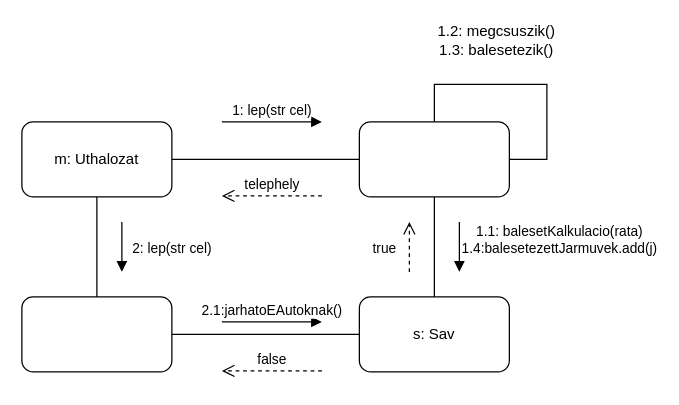
The diagram is 679 pixels wide and 405 high, and some of its shapes have lost their labels. Here are the shapes that lost their labels. From the top down, the centre of each, then its label:
the point at 433,159: j: Jarmu
the point at 96,334: j2: Jarmu
